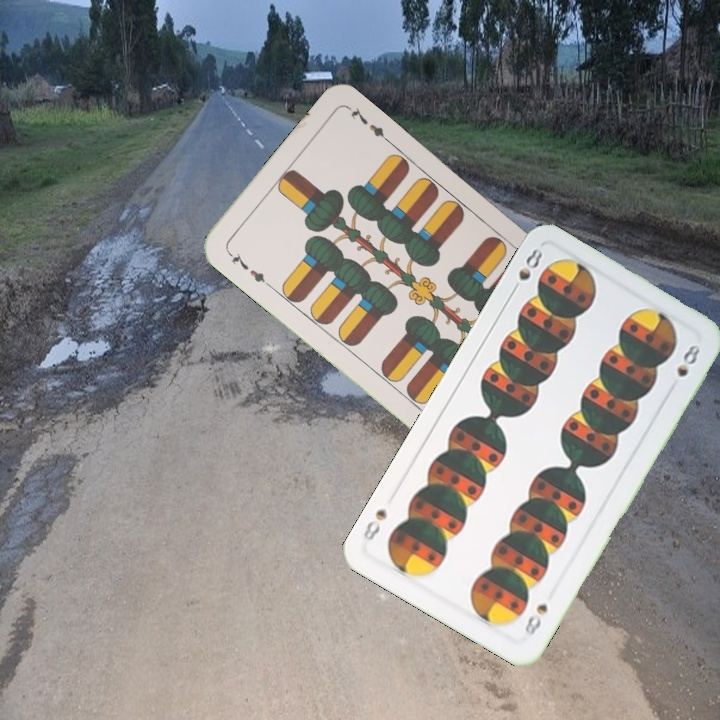E7: (223, 246, 273, 289)
S8: (506, 244, 546, 297), (520, 599, 551, 639)
